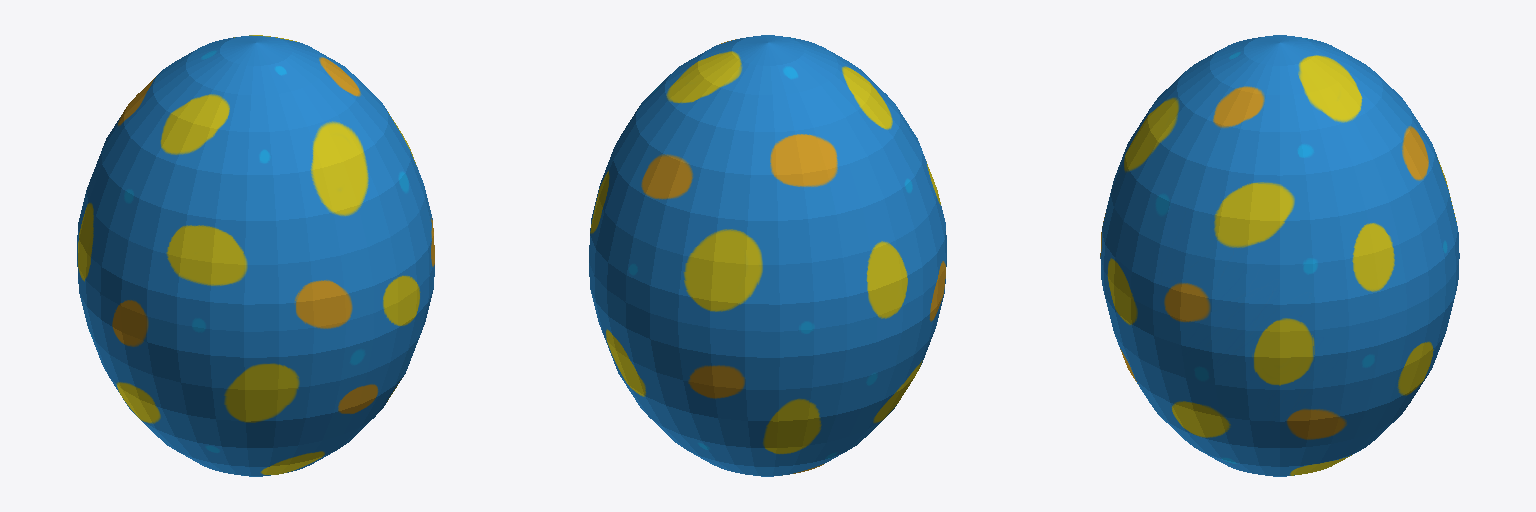
The picture shows the model from 3 angles: view 1: azimuth 30°, elevation 25°; view 2: azimuth 150°, elevation 25°; view 3: azimuth 270°, elevation 25°; orthographic projection.
Visible parts, largest first — view 1: Sphere_Sphere.001; view 2: Sphere_Sphere.001; view 3: Sphere_Sphere.001.
Boxes of the visible parts, <box> form: Sphere_Sphere.001: <box>77,35,434,476</box>; Sphere_Sphere.001: <box>589,35,946,476</box>; Sphere_Sphere.001: <box>1100,35,1459,476</box>.
Bounding box in the file's own units: 1.32 × 1.74 × 1.32.
1 materials, 1 textured.